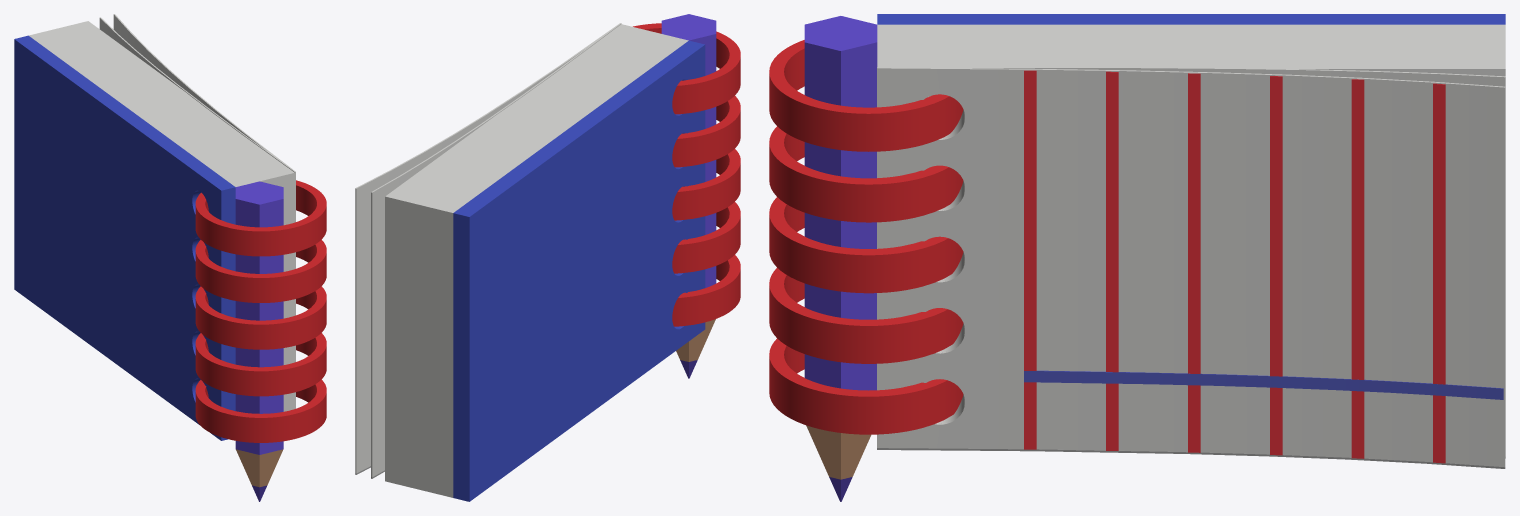
The model's file is Notebook day 70 v2.fbx.
3 views of the same model, side by side, from view 1: azimuth 30°, elevation 25°; view 2: azimuth 150°, elevation 25°; view 3: azimuth 270°, elevation 25° (orthographic). The views are drawn at different scales.
Visible parts, largest first — view 1: Body2, Body1, Pencil body, Binder (4), Binder (2), Binder (1), Binder, Binder (3), front paper, Pencil head; view 2: Body2, Body1, front paper, Binder (4), Binder (3), Binder (2), Binder (1), Binder, Pencil body, Pencil head; view 3: front paper, Body1, Pencil body, Binder (4), Binder (3), Binder (1), Binder (2), Binder, Body2, blue decor, front paper (7), front paper (1) (+12 smaller).
Part boxes in pixels (x1,y1,x2,y2): Body2: [14, 35, 235, 440]; Body1: [29, 21, 294, 411]; Pencil body: [235, 181, 283, 454]; Binder (4): [195, 180, 326, 256]; Binder (2): [195, 286, 326, 349]; Binder (1): [195, 333, 326, 396]; Binder: [195, 379, 326, 442]; Binder (3): [195, 239, 326, 302]; front paper: [99, 14, 295, 408]; Pencil head: [236, 449, 283, 487]; Body2: [453, 40, 705, 501]; Body1: [385, 24, 688, 497]; front paper: [355, 23, 621, 477]; Binder (4): [633, 23, 740, 114]; Binder (3): [672, 96, 740, 167]; Binder (2): [672, 149, 740, 220]; Binder (1): [672, 202, 740, 273]; Binder: [672, 255, 740, 326]; Pencil body: [661, 14, 716, 287]; Pencil head: [676, 319, 715, 361]; front paper: [877, 67, 1505, 467]; Body1: [877, 24, 1505, 423]; Pencil body: [804, 16, 877, 390]; Binder (4): [769, 40, 963, 151]; Binder (3): [769, 126, 963, 222]; Binder (1): [769, 268, 963, 363]; Binder (2): [769, 197, 963, 293]; Binder: [769, 338, 963, 434]; Body2: [877, 14, 1505, 24]; blue decor: [1024, 370, 1503, 399]; front paper (7): [1351, 79, 1364, 379]; front paper (1): [1024, 70, 1036, 370].
Bounding box in the file's own units: 50.46 × 124 × 176.
